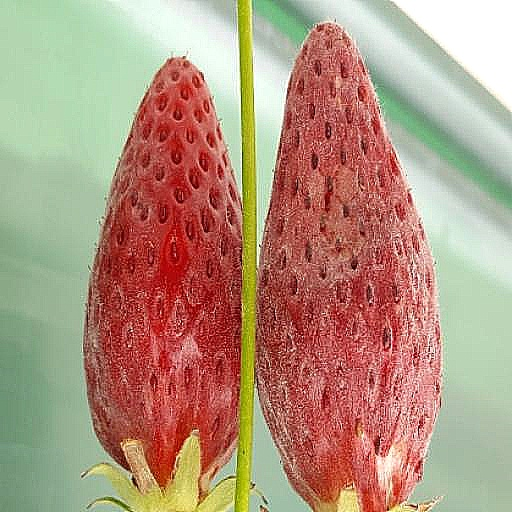Powdery Mildew Fruit: (254, 0, 445, 492), (84, 19, 246, 458)
